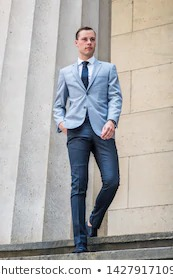F_M_suit jacket: (51, 57, 124, 144)
